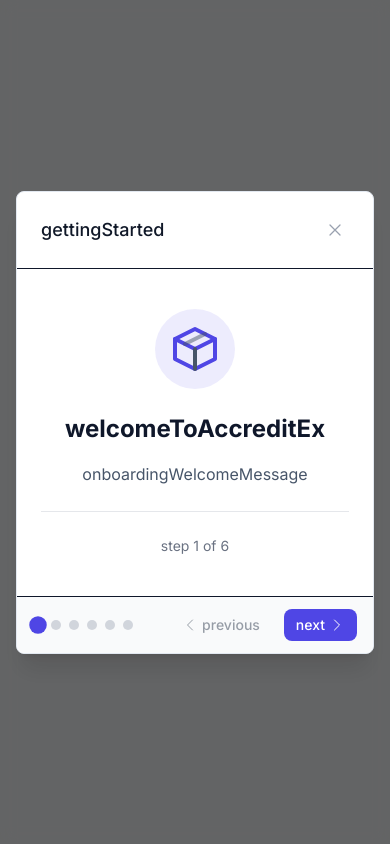
Test: OnboardingModal › Navigation › should navigate to specific step when progress dot is clicked
Step 1. Click the button named "goToStep 3" → click(74, 624), box 69,620 -> 79,630
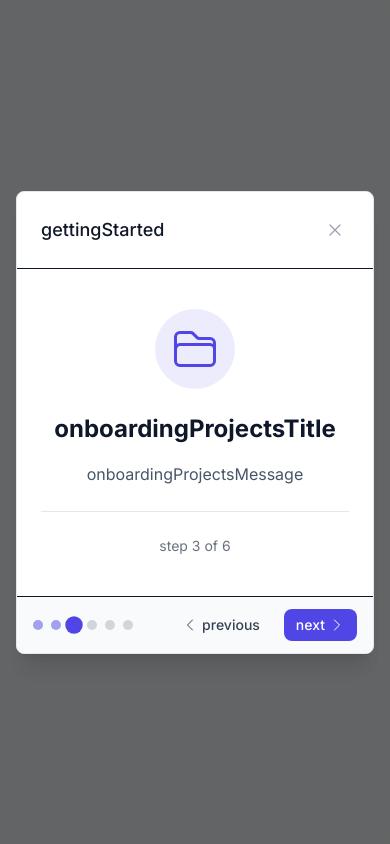
Check: the heading "onboardingProjectsTitle" is shown, box 41,412 -> 349,444
